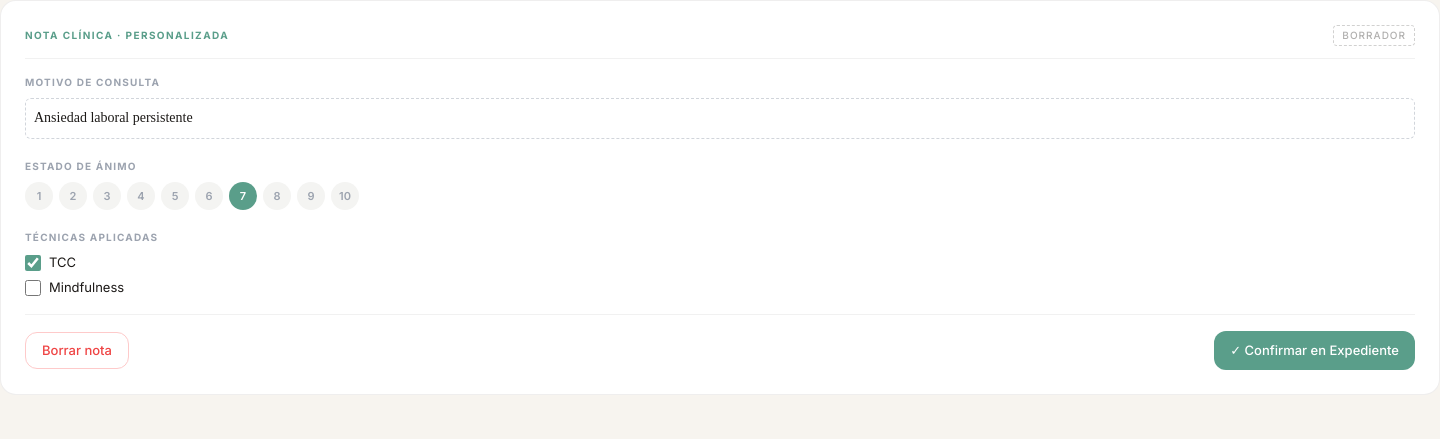
Test case: CustomNoteDocument › blur en textarea guarda el valor editado
Step 1. Click the text "Ansiedad laboral persistente" → (720,118), box [25,98,1415,139]
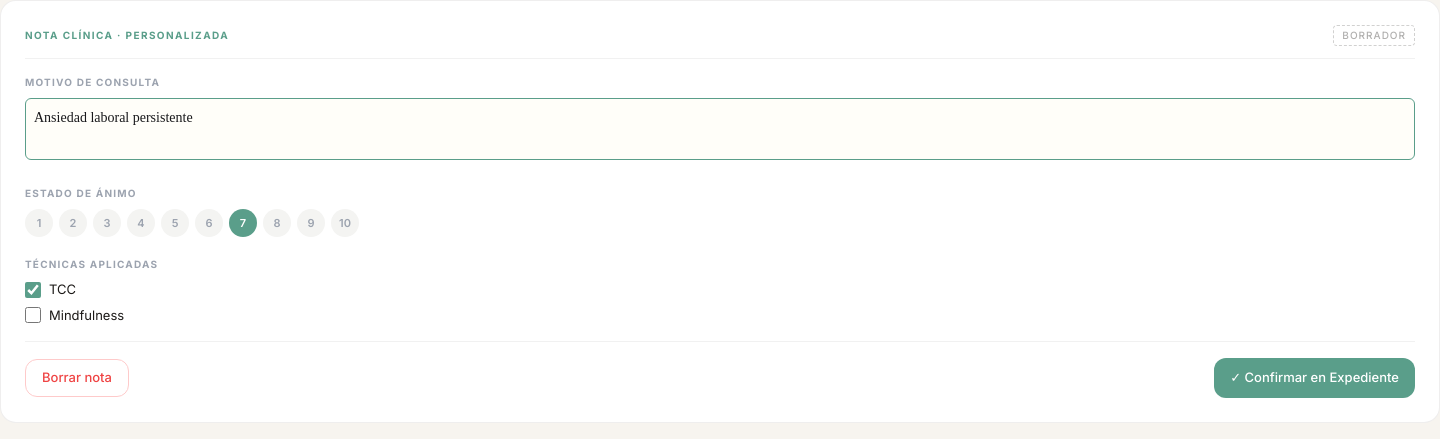
Step 2. Replace the text in the text box with "Estrés laboral crónico" → (720,129), box [25,98,1415,160]
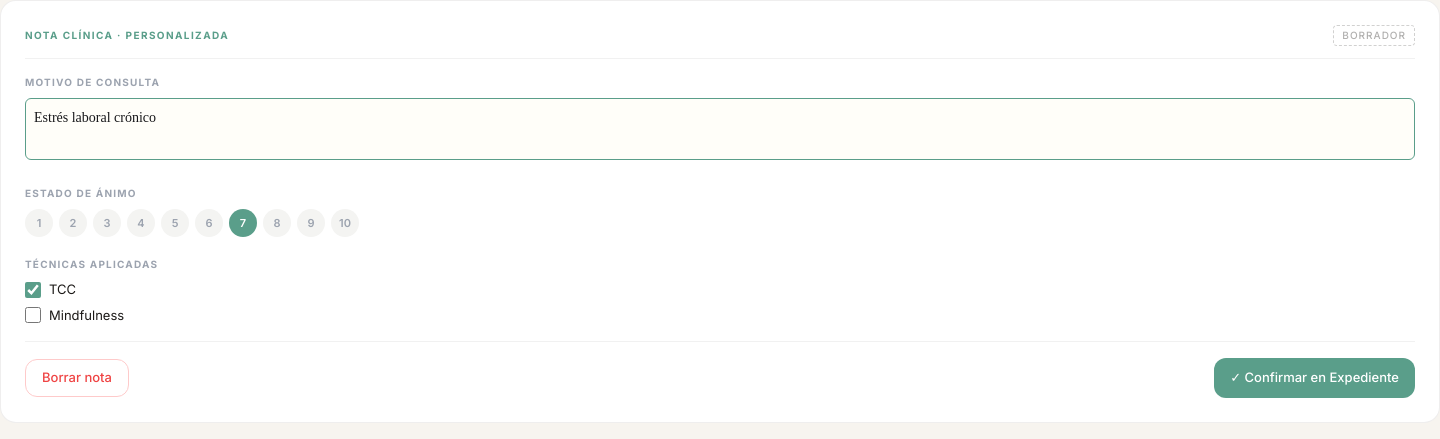
Step 3. Press Tab
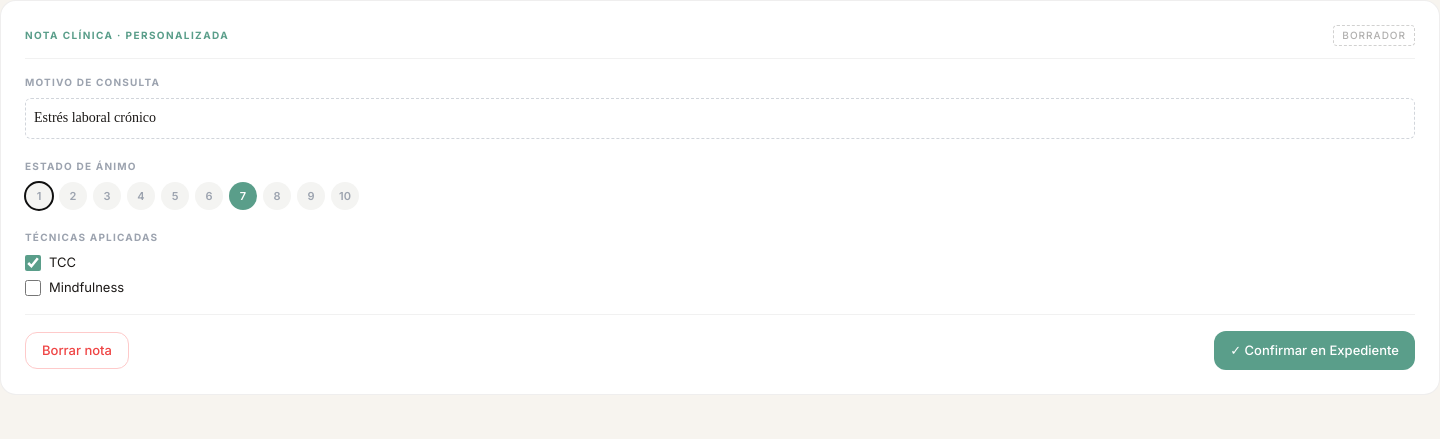
Expected: the text "Estrés laboral crónico" is shown, [25,98,1415,139]
